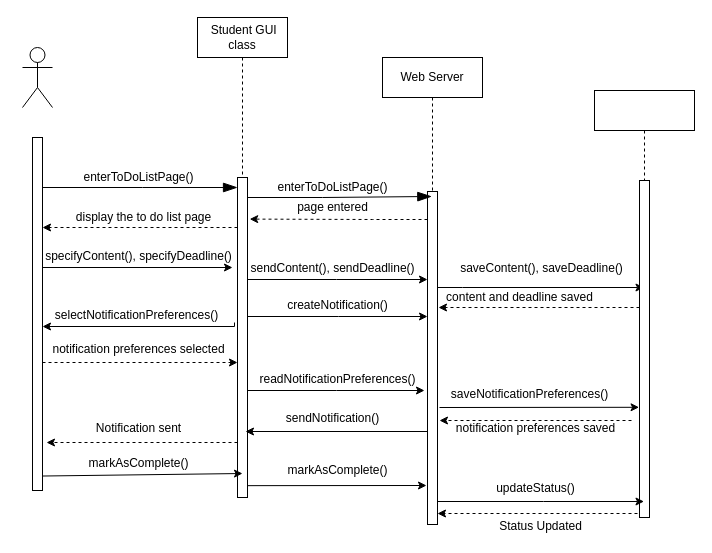
Image size: 712x553. Some labels were removed from this diagram. The box of each missing label's shape, as (x1, y1, x2, y2) in pixels:
database: (594, 90, 694, 518)
Student: (22, 46, 52, 108)
